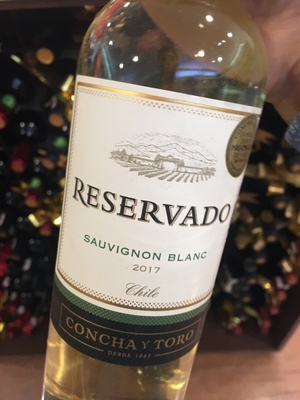reservado sauvignon blanc: (53, 23, 263, 400)
